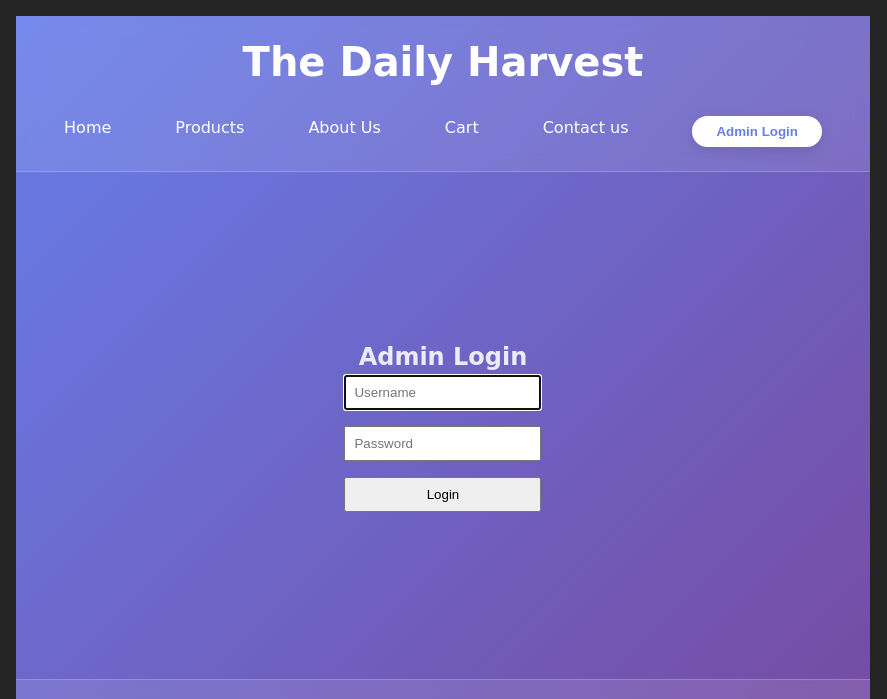
LoginPage › should display error message on invalid credentials
The image size is (887, 699).
Type "wronguser" into the field with placeholder "Username" at [443, 392], box [344,375,542,410]
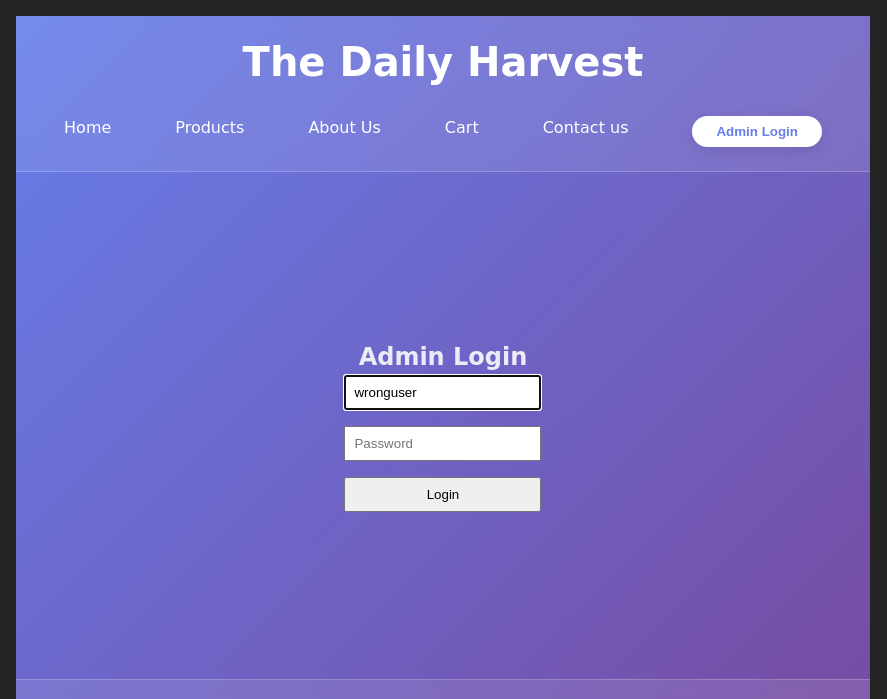
Type "wrongpass" into the password field with placeholder "Password" at [443, 444], box [344,426,542,461]
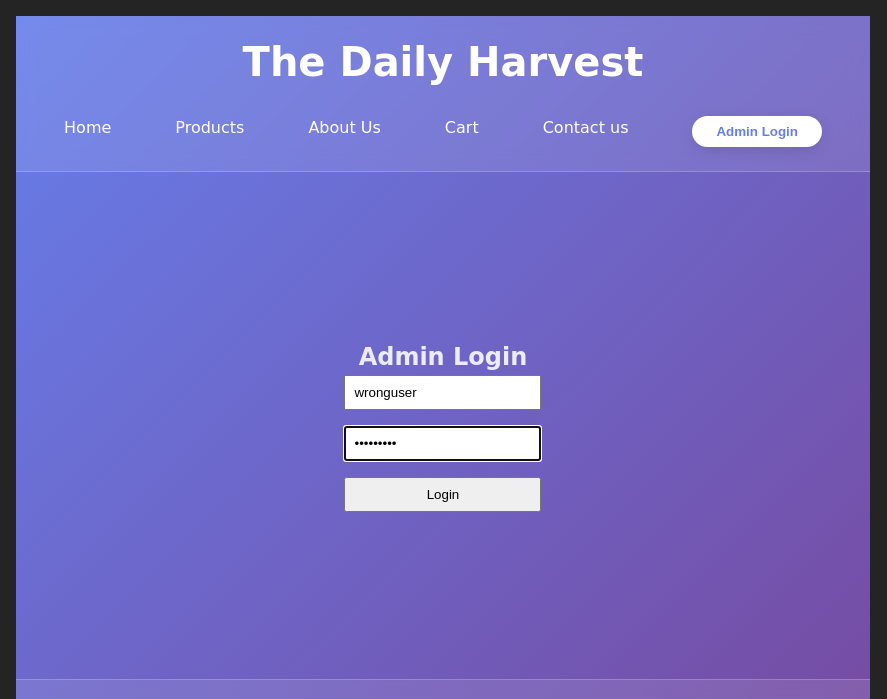
Click the submit button at [443, 494], box [344,477,542,512]
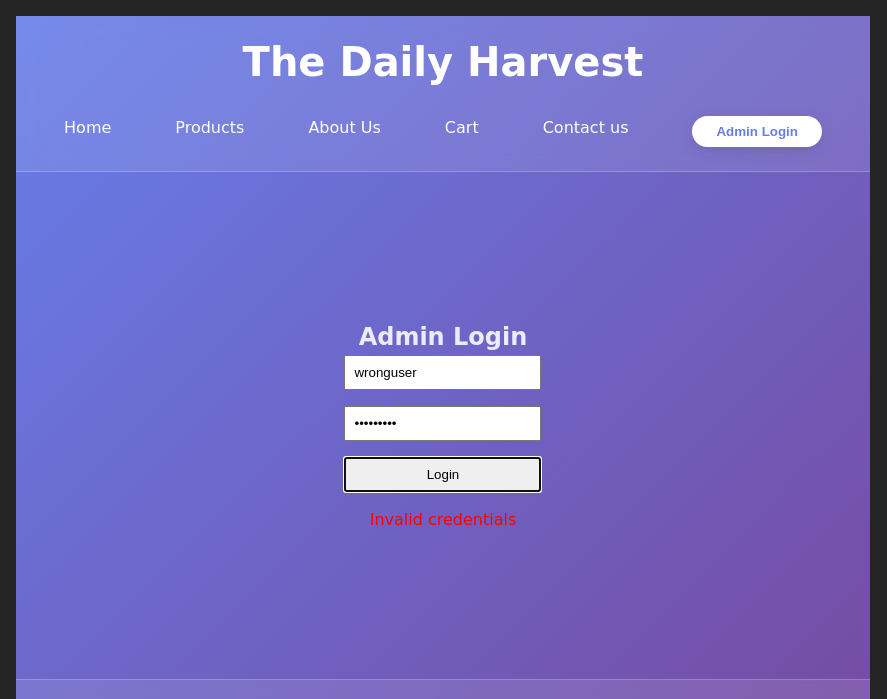
Now the text "Invalid credentials" is shown, box [370,510,516,529]
